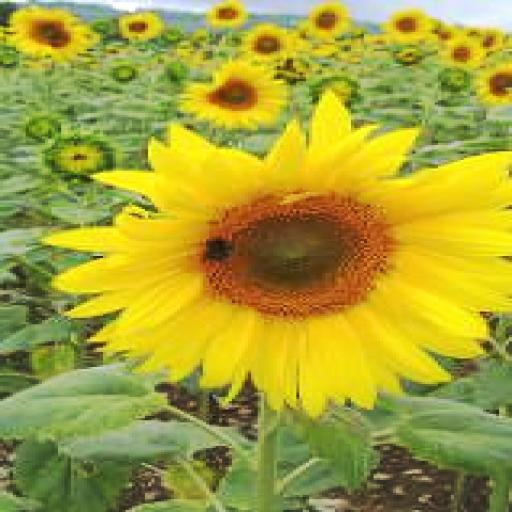sunflower: (74, 100, 512, 410), (177, 62, 290, 126), (3, 4, 90, 60), (303, 2, 357, 41), (245, 22, 296, 56), (435, 36, 486, 68), (383, 10, 435, 40), (470, 64, 512, 100), (110, 13, 164, 40)
